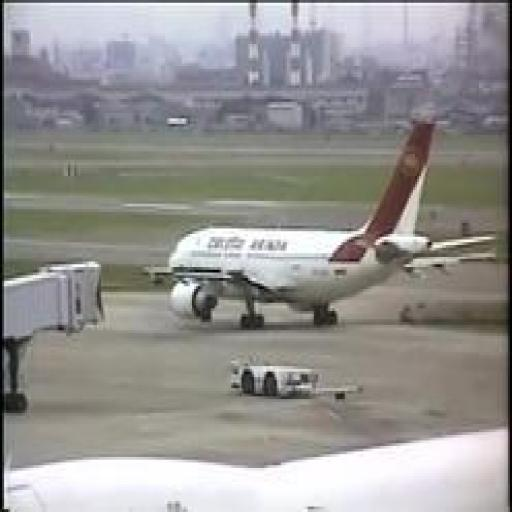aircraft: (141, 122, 500, 328)
